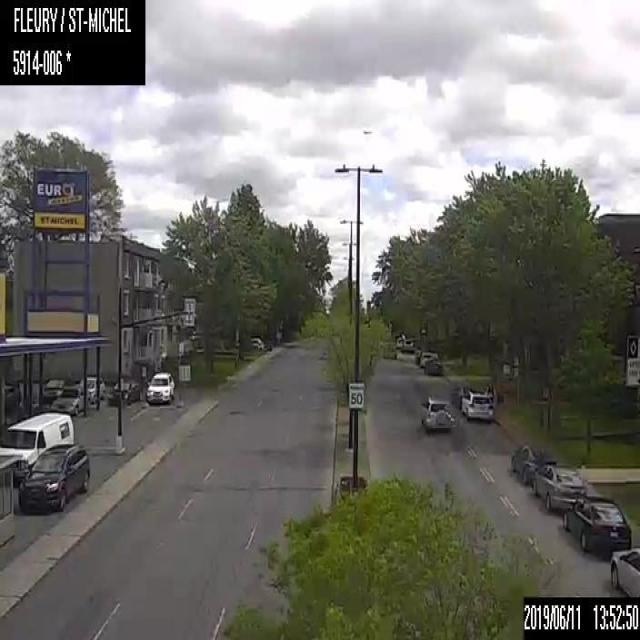vehicle: (6, 409, 76, 484), (16, 442, 89, 512), (560, 492, 628, 556), (532, 460, 591, 515), (508, 442, 552, 487), (608, 540, 639, 595), (458, 385, 494, 422), (420, 393, 451, 431), (104, 376, 140, 406), (50, 385, 86, 415), (145, 371, 175, 406), (76, 374, 106, 404), (42, 376, 70, 402), (423, 358, 444, 376), (419, 350, 436, 366)
